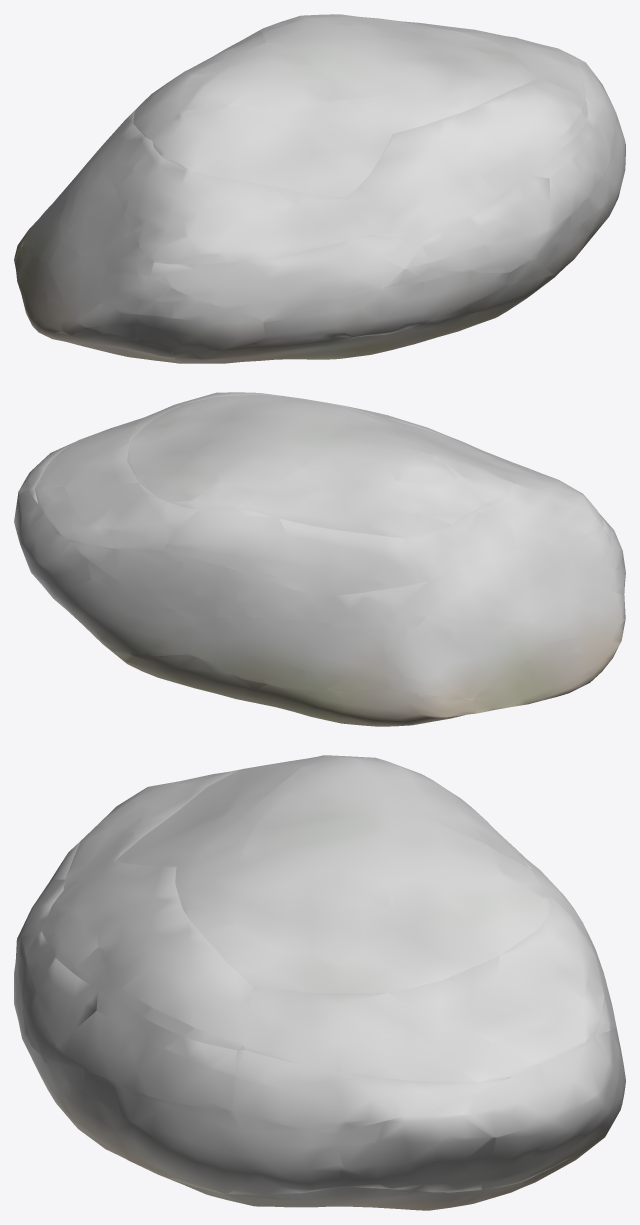
The model's file is coal_rock_v1.glb.
The picture shows the model from 3 angles, top to bottom: view 1: azimuth 30°, elevation 25°; view 2: azimuth 150°, elevation 25°; view 3: azimuth 270°, elevation 25°; orthographic projection. The views are drawn at different scales.
Parts seen in each view (by area): view 1: Chunk_24, Chunk_29, Chunk_23, Chunk_28, Chunk_17, Chunk_18, Chunk_10, Chunk_11, Chunk_30, Chunk_16, Chunk_03, Chunk_12 (+7 smaller); view 2: Chunk_29, Chunk_21, Chunk_27, Chunk_25, Chunk_08, Chunk_07, Chunk_09, Chunk_16, Chunk_14, Chunk_02, Chunk_23, Chunk_03 (+8 smaller); view 3: Chunk_29, Chunk_25, Chunk_07, Chunk_24, Chunk_12, Chunk_18, Chunk_19, Chunk_30, Chunk_28, Chunk_23, Chunk_00, Chunk_27 (+4 smaller).
Boxes of the visible parts, box(x1,y1,x2,y2) form: Chunk_24: box(347, 79, 588, 241); Chunk_29: box(259, 14, 536, 133); Chunk_23: box(116, 147, 369, 264); Chunk_28: box(152, 105, 392, 197); Chunk_17: box(150, 234, 431, 318); Chunk_18: box(421, 102, 614, 272); Chunk_10: box(48, 242, 264, 353); Chunk_11: box(263, 270, 509, 338); Chunk_30: box(181, 44, 367, 122); Chunk_16: box(59, 149, 153, 275); Chunk_03: box(14, 247, 176, 363); Chunk_12: box(506, 113, 625, 284); Chunk_29: box(127, 394, 373, 509); Chunk_21: box(163, 507, 425, 595); Chunk_27: box(239, 465, 484, 538); Chunk_25: box(35, 405, 199, 550); Chunk_08: box(189, 617, 389, 690); Chunk_07: box(14, 469, 193, 656); Chunk_09: box(381, 617, 545, 698); Chunk_16: box(428, 529, 610, 622); Chunk_14: box(70, 540, 313, 621); Chunk_02: box(246, 680, 475, 726); Chunk_23: box(460, 442, 604, 548); Chunk_03: box(475, 620, 625, 713); Chunk_29: box(175, 815, 552, 993); Chunk_25: box(243, 896, 604, 1082); Chunk_07: box(338, 1025, 625, 1192); Chunk_24: box(42, 861, 253, 1050); Chunk_12: box(31, 1046, 341, 1194); Chunk_18: box(21, 931, 237, 1110); Chunk_19: box(233, 1049, 511, 1133); Chunk_30: box(206, 755, 430, 849); Chunk_28: box(115, 755, 328, 866); Chunk_23: box(63, 769, 240, 889); Chunk_00: box(145, 1168, 526, 1210); Chunk_27: box(336, 755, 528, 867).
Size of the model in its own units: 3.09 by 1.21 by 2.22.
